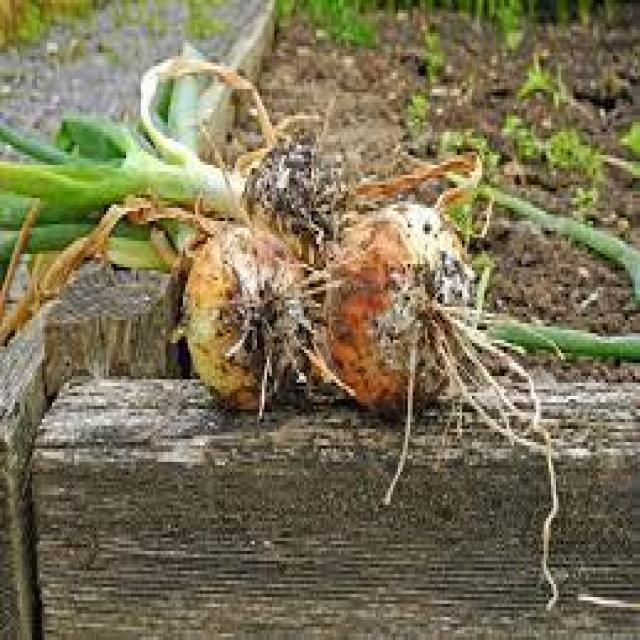Onion: (0, 45, 272, 348), (322, 205, 564, 504), (173, 218, 314, 426), (230, 125, 348, 251)
